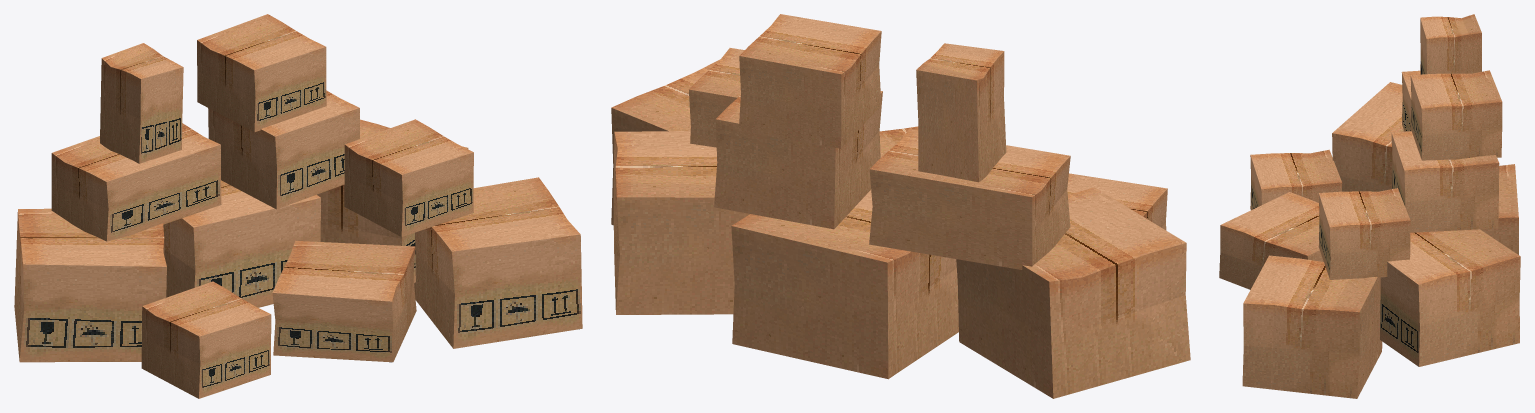
File: caixas.glb
3 renders of one model, left to right at view 1: azimuth 30°, elevation 25°; view 2: azimuth 150°, elevation 25°; view 3: azimuth 270°, elevation 25°, orthographic. The views are drawn at different scales.
Parts seen in each view (by area): view 1: Object_2.002, Object_2.005, Object_2.001, Object_2.006, Object_2.004, Object_2.008, Object_2, Object_2.010, Object_2.009, Object_2.007, Object_2.003; view 2: Object_2.005, Object_2.004, Object_2.003, Object_2.006, Object_2.010, Object_2.009, Object_2.007, Object_2.002, Object_2.008, Object_2, Object_2.001; view 3: Object_2.002, Object_2.003, Object_2.009, Object_2.010, Object_2.008, Object_2.001, Object_2.005, Object_2, Object_2.007, Object_2.004, Object_2.006.
Part boxes in pixels (bbox=[...]): Object_2.002: bbox=[414, 177, 582, 348]; Object_2.005: bbox=[14, 208, 166, 362]; Object_2.001: bbox=[272, 240, 416, 362]; Object_2.006: bbox=[51, 123, 221, 241]; Object_2.004: bbox=[163, 180, 320, 307]; Object_2.008: bbox=[344, 119, 473, 236]; Object_2: bbox=[141, 281, 271, 398]; Object_2.010: bbox=[197, 14, 326, 132]; Object_2.009: bbox=[208, 90, 359, 209]; Object_2.007: bbox=[100, 43, 183, 163]; Object_2.003: bbox=[317, 119, 468, 283]; Object_2.005: bbox=[956, 187, 1190, 398]; Object_2.004: bbox=[731, 189, 958, 379]; Object_2.003: bbox=[613, 131, 749, 314]; Object_2.006: bbox=[869, 129, 1070, 269]; Object_2.010: bbox=[738, 14, 881, 148]; Object_2.009: bbox=[714, 91, 882, 229]; Object_2.007: bbox=[916, 43, 1006, 182]; Object_2.002: bbox=[611, 59, 719, 225]; Object_2.008: bbox=[688, 48, 744, 147]; Object_2: bbox=[1067, 173, 1167, 230]; Object_2.001: bbox=[879, 126, 918, 157]; Object_2.002: bbox=[1242, 255, 1382, 398]; Object_2.003: bbox=[1380, 229, 1520, 366]; Object_2.009: bbox=[1391, 131, 1499, 232]; Object_2.010: bbox=[1410, 70, 1502, 160]; Object_2.008: bbox=[1318, 188, 1410, 279]; Object_2.001: bbox=[1219, 192, 1323, 289]; Object_2.005: bbox=[1332, 82, 1403, 191]; Object_2: bbox=[1250, 149, 1342, 210]; Object_2.007: bbox=[1420, 14, 1481, 74]; Object_2.004: bbox=[1480, 164, 1518, 254]; Object_2.006: bbox=[1401, 70, 1420, 131].
Size of the model in its own units: 1.54 by 0.7668 by 0.9167.
11 materials, 11 textured.
